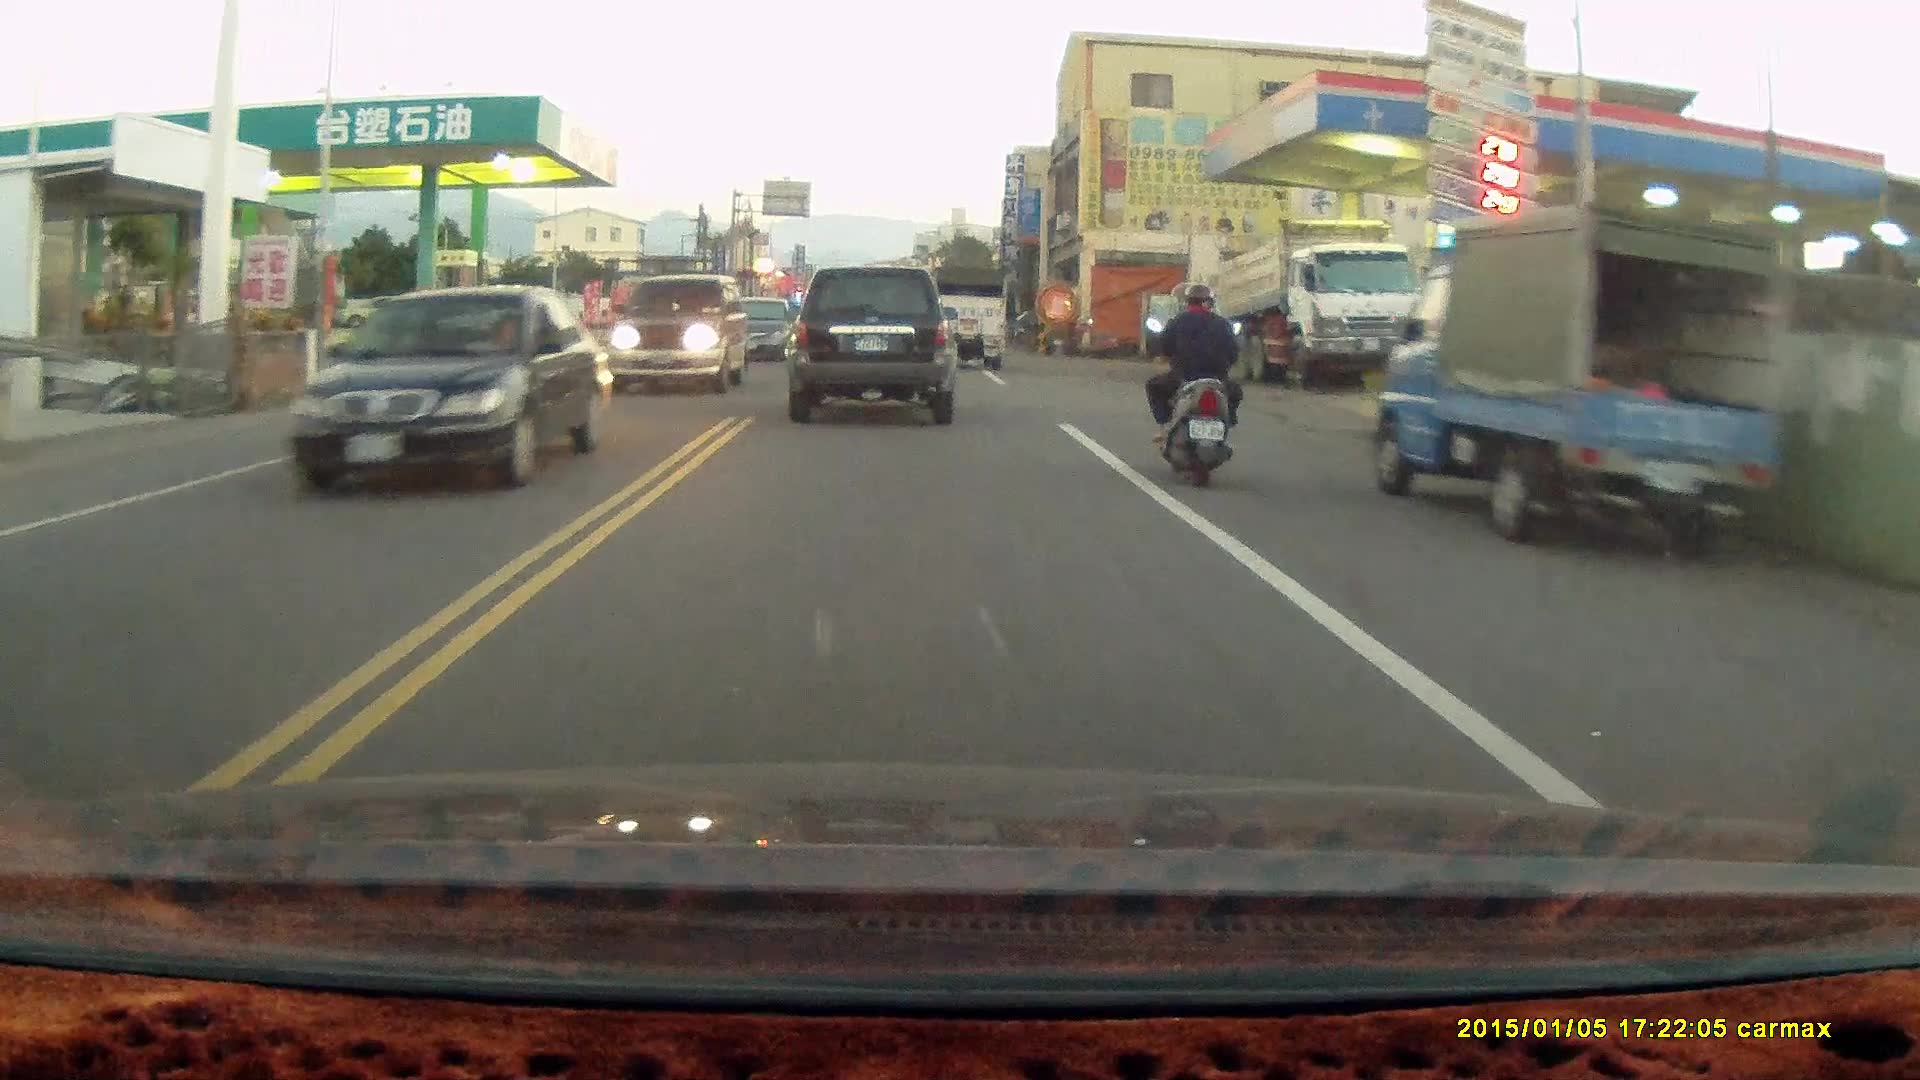rider: (1143, 281, 1246, 489)
vehicle: (1375, 198, 1796, 544), (278, 286, 607, 496), (1197, 206, 1419, 381), (789, 264, 956, 420), (616, 268, 754, 391), (917, 257, 1011, 368), (713, 297, 806, 364)
